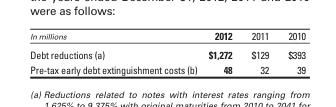table: (29, 28, 305, 75)
table column: (29, 28, 202, 75), (202, 28, 241, 75), (241, 28, 277, 75), (277, 28, 305, 75)
table column header: (29, 28, 305, 44)
table row: (29, 44, 305, 61), (29, 28, 305, 44), (29, 61, 305, 75)
